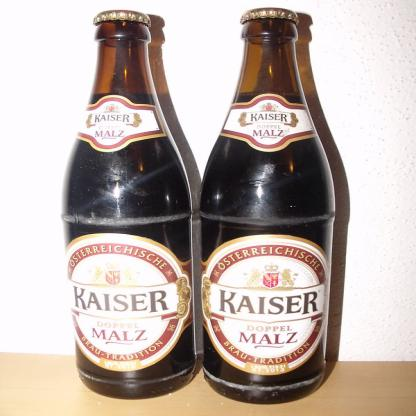drinking: (202, 9, 336, 404), (62, 10, 197, 400)
